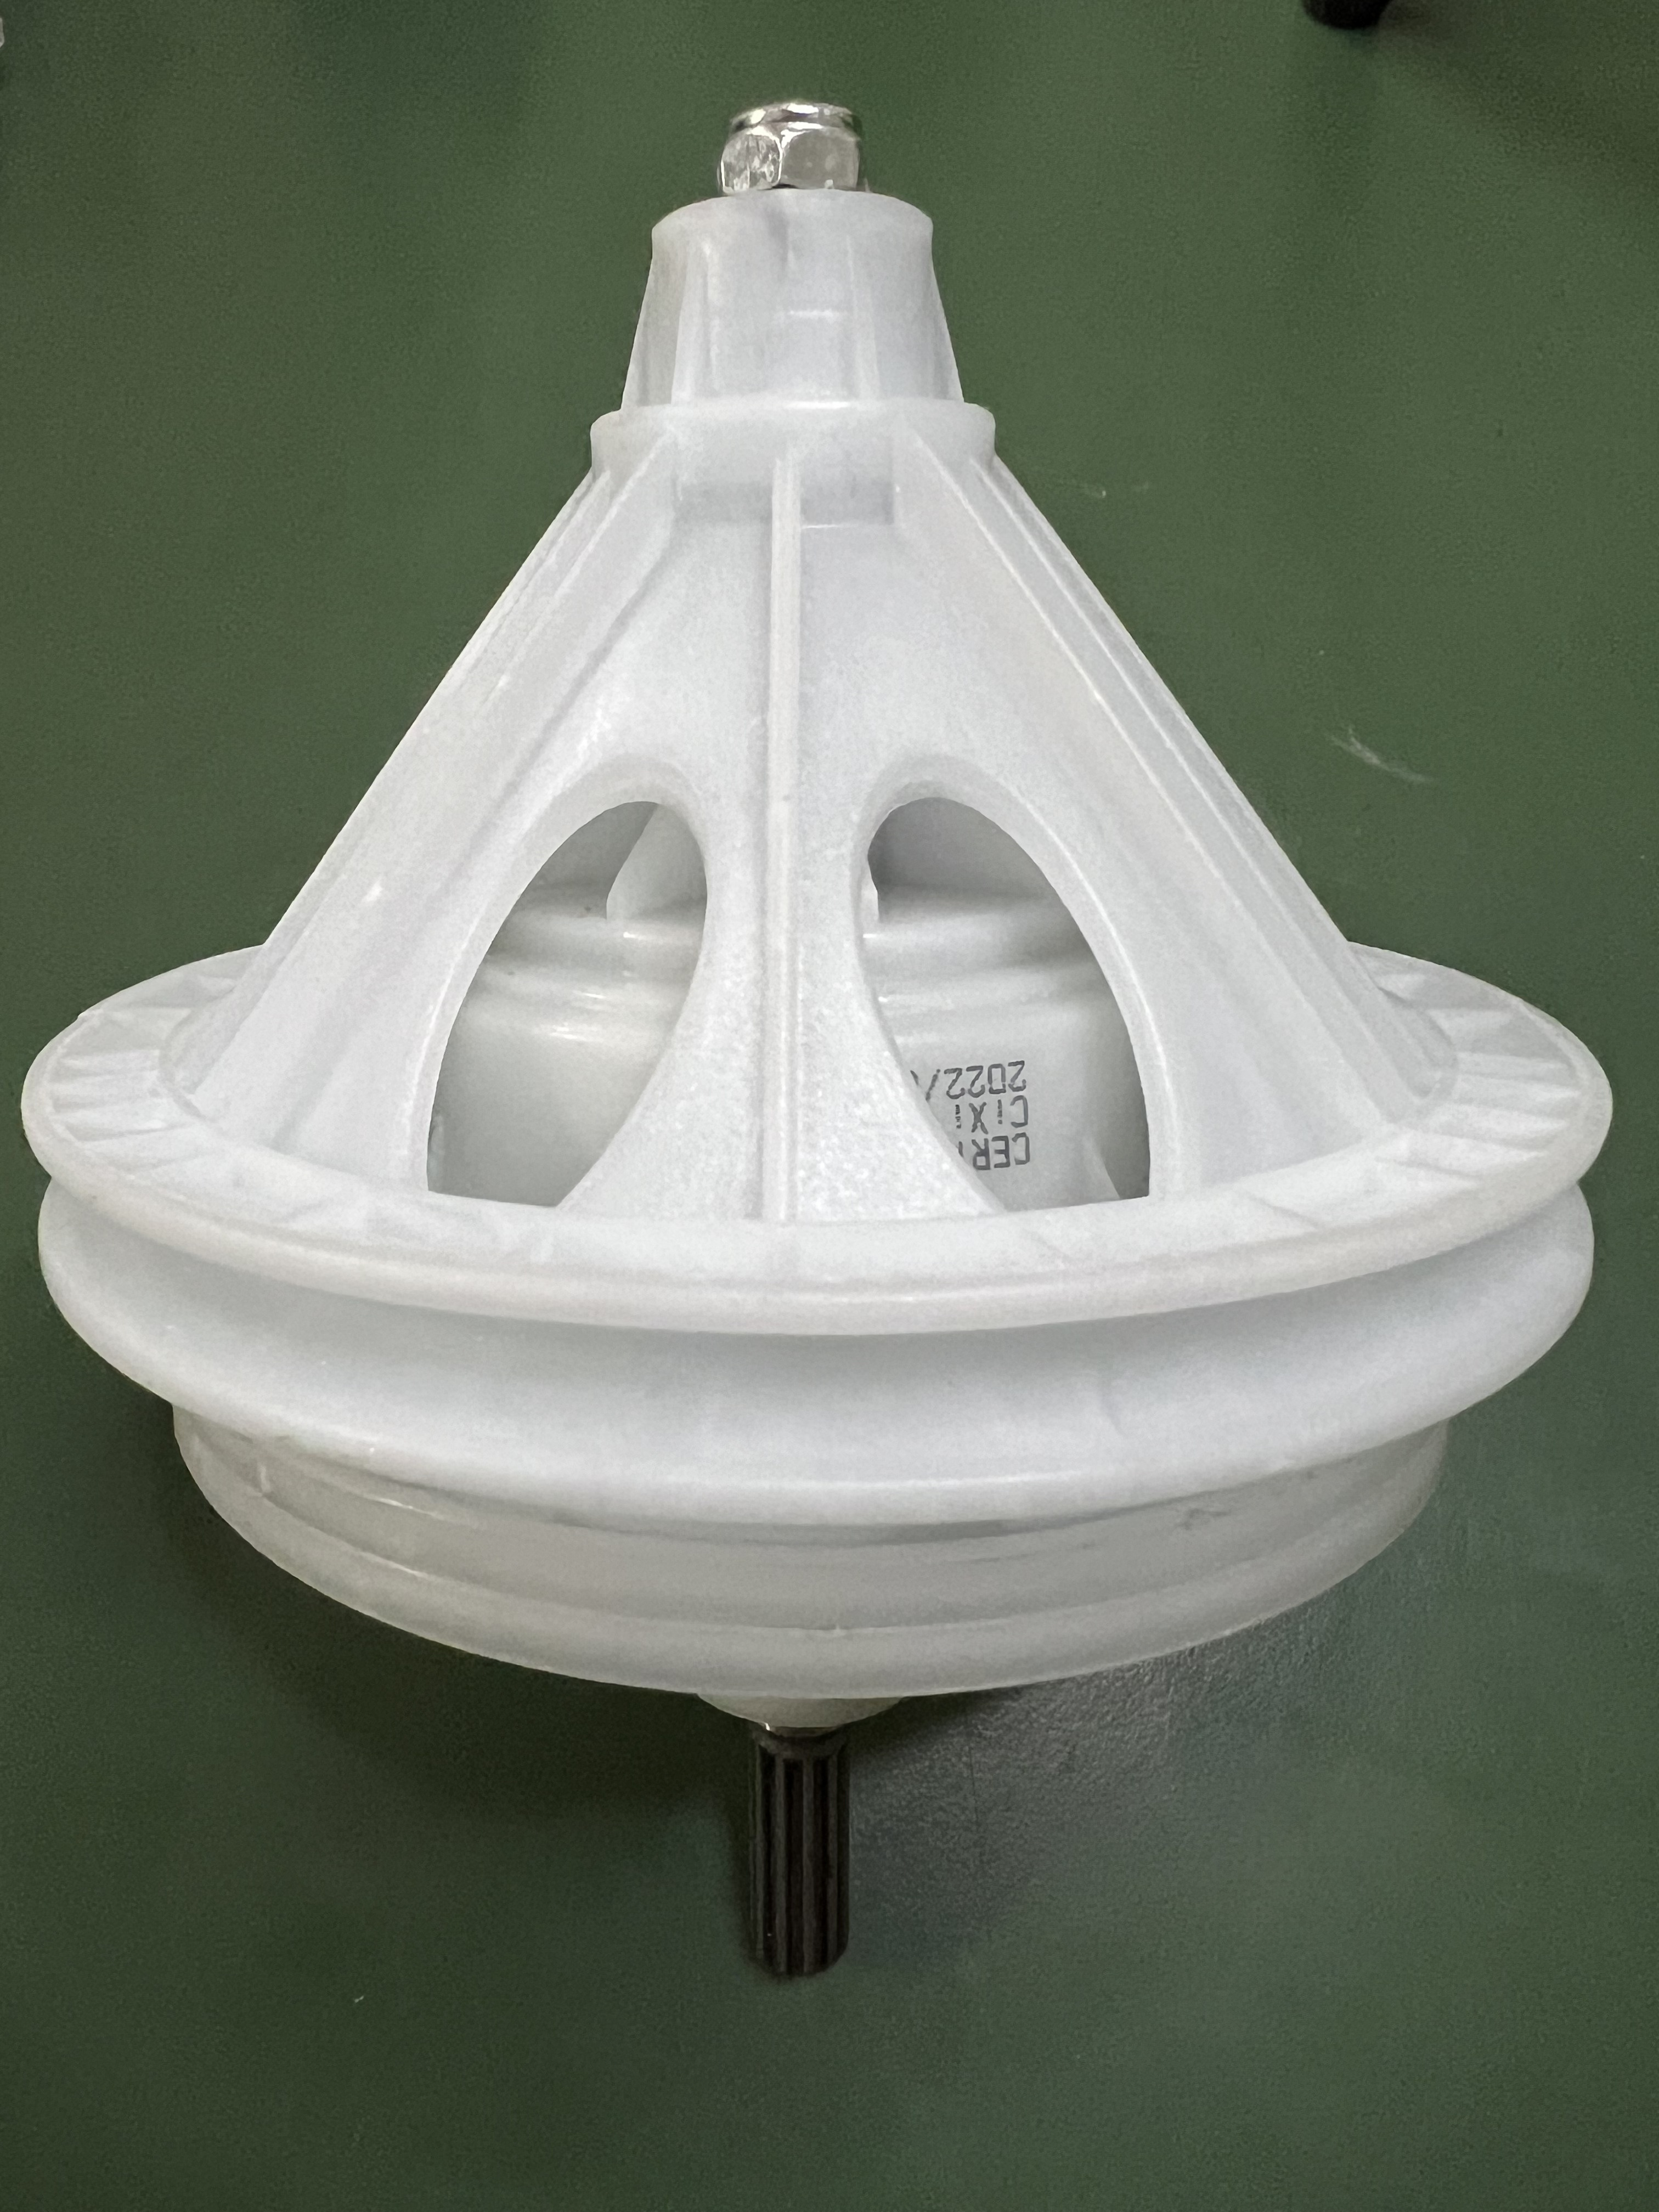gear_box_circle: (14, 82, 1622, 1980)
